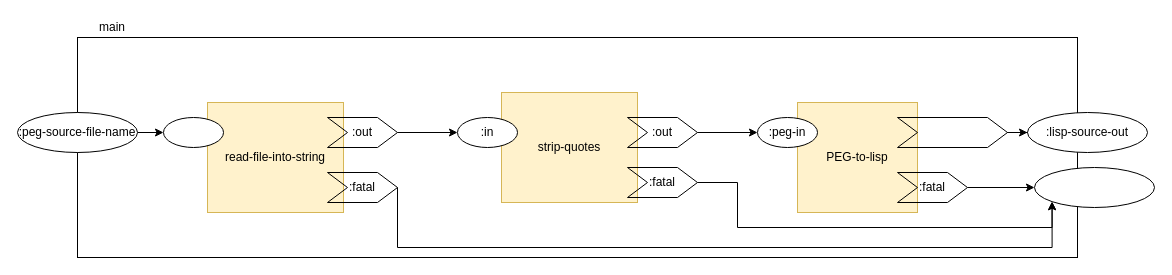
Some shapes in this 1172 by 275 pixel diagram are drawn without their labels. Here are the shapes that lost their labels. From the top down, the centre of each, then its label:
the point at 193,132: :filename
the point at 952,132: :lisp-list-out
the point at 1094,187: :fatal-error
